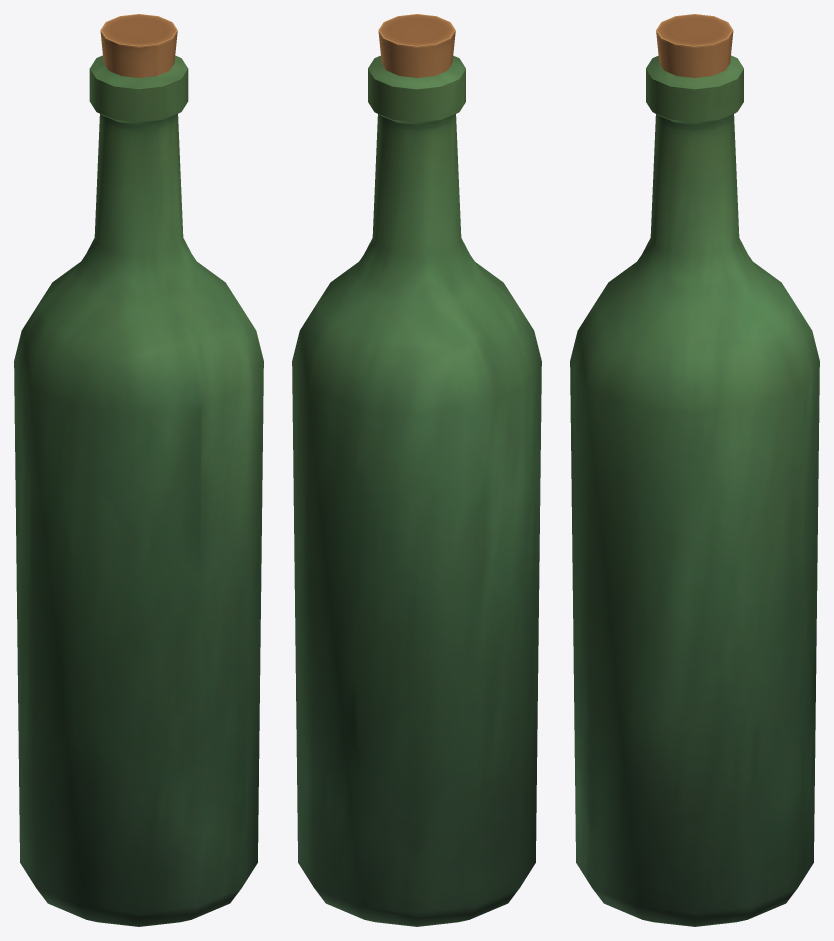
File: SM_Drink_Bottle_A_Red.fbx
3 views of the same model, side by side, from view 1: azimuth 30°, elevation 25°; view 2: azimuth 150°, elevation 25°; view 3: azimuth 270°, elevation 25° (orthographic).
Visible parts, largest first — view 1: SM_Drink_Bottle_A_Red_LOD0; view 2: SM_Drink_Bottle_A_Red_LOD0; view 3: SM_Drink_Bottle_A_Red_LOD0.
Part boxes in pixels (box(x1,y1,x2,y2)): SM_Drink_Bottle_A_Red_LOD0: box(14, 14, 263, 926); SM_Drink_Bottle_A_Red_LOD0: box(292, 14, 541, 926); SM_Drink_Bottle_A_Red_LOD0: box(570, 14, 819, 926).
Bounding box in the file's own units: 7.99 × 7.99 × 30.41.
